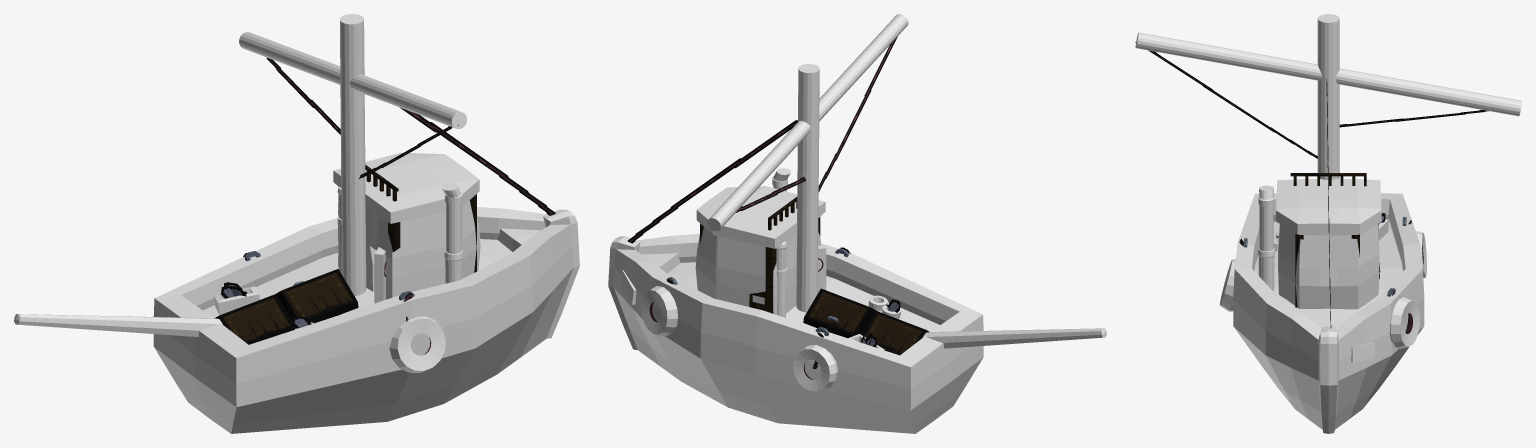
Rendered from kuter.fbx.
The picture shows the model from 3 angles, left to right: view 1: azimuth 30°, elevation 25°; view 2: azimuth 150°, elevation 25°; view 3: azimuth 270°, elevation 25°; orthographic projection. The views are drawn at different scales.
Parts seen in each view (by area): view 1: Cube; view 2: Cube; view 3: Cube.
Part boxes in pixels (x1,y1,x2,y2): Cube: [14, 14, 579, 433]; Cube: [608, 14, 1106, 433]; Cube: [1135, 14, 1521, 433].
Bounding box in the file's own units: 1331 × 896 × 884.
Materials: 2 (1 with a texture image).
